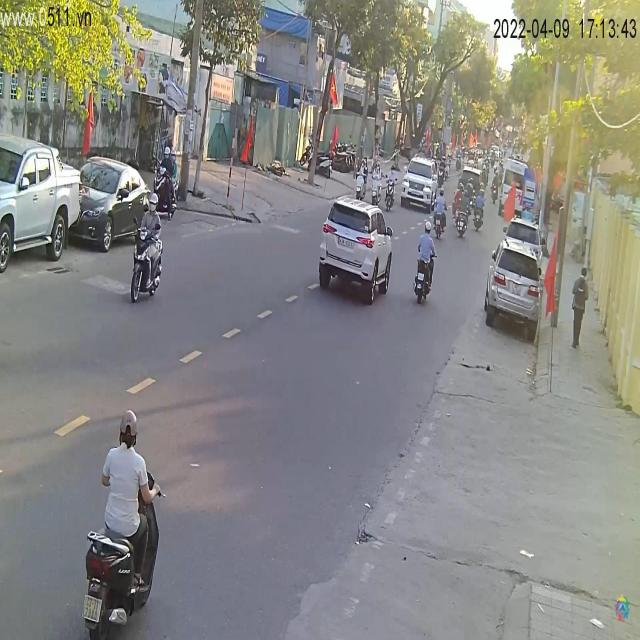car: (1, 131, 82, 278), (319, 197, 397, 306), (73, 157, 155, 254), (487, 234, 544, 341), (403, 155, 443, 209)
motorcycle: (82, 464, 168, 639), (131, 218, 167, 302), (414, 260, 436, 306), (455, 212, 467, 239), (434, 214, 446, 239)
